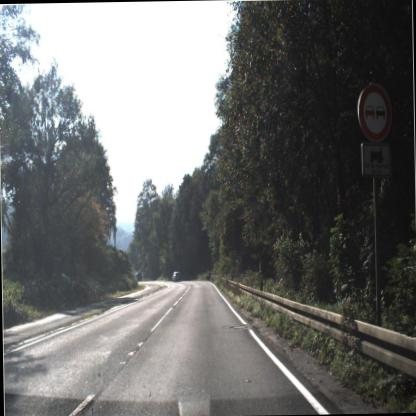prohibitory: (356, 69, 393, 144)
